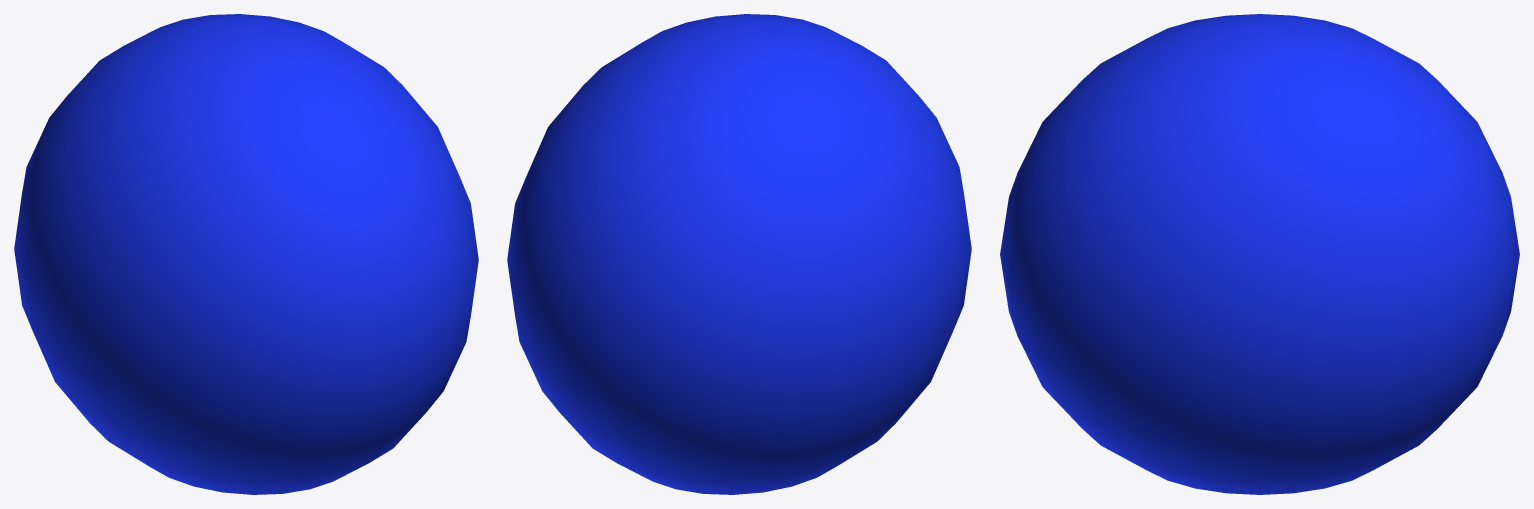
The picture shows the model from 3 angles, left to right: view 1: azimuth 30°, elevation 25°; view 2: azimuth 150°, elevation 25°; view 3: azimuth 270°, elevation 25°; orthographic projection. The views are drawn at different scales.
Visible parts, largest first — view 1: Mesh Object; view 2: Mesh Object; view 3: Mesh Object.
Boxes of the visible parts, x1,y1,x2,y2 form: Mesh Object: [14, 14, 478, 494]; Mesh Object: [507, 14, 971, 494]; Mesh Object: [1000, 14, 1519, 494].
Size of the model in its own units: 1.5 by 1.6 by 1.7.
